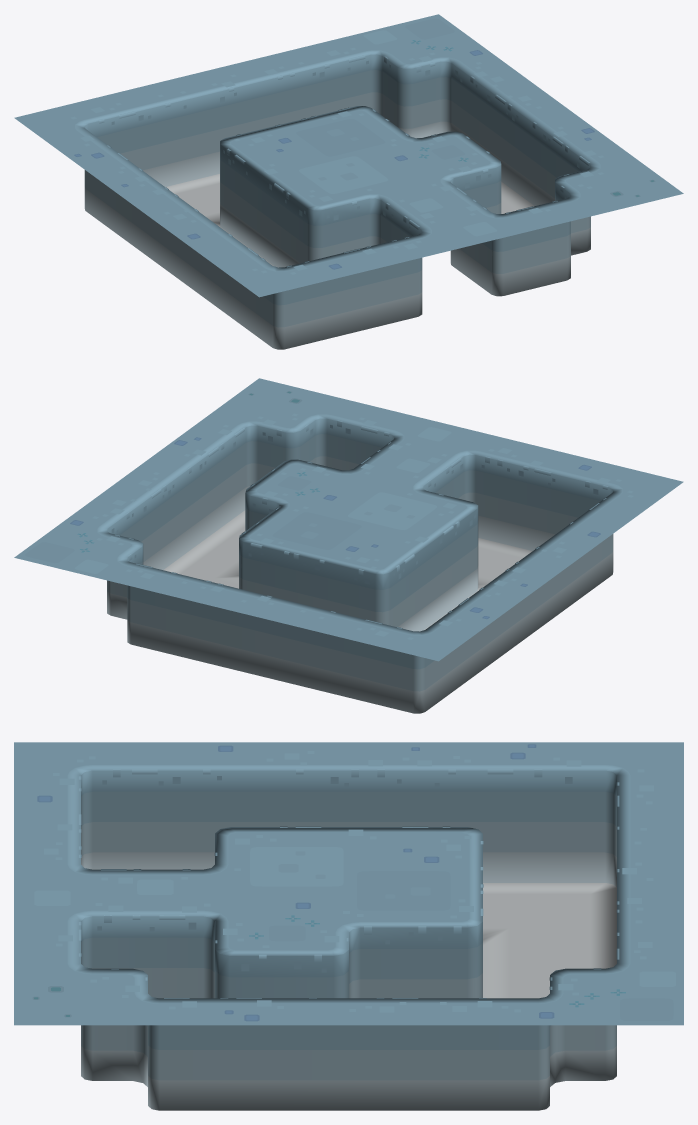
The model's file is C_mountain2_08.fbx.
The picture shows the model from 3 angles, top to bottom: view 1: azimuth 30°, elevation 25°; view 2: azimuth 150°, elevation 25°; view 3: azimuth 270°, elevation 25°; orthographic projection. The views are drawn at different scales.
Parts seen in each view (by area): view 1: C_mountain2_08; view 2: C_mountain2_08; view 3: C_mountain2_08.
Boxes of the visible parts, bbox=[...] form: C_mountain2_08: bbox=[14, 14, 683, 349]; C_mountain2_08: bbox=[14, 378, 683, 713]; C_mountain2_08: bbox=[14, 742, 683, 1110].
Bounding box in the file's own units: 50 × 9.38 × 50.
